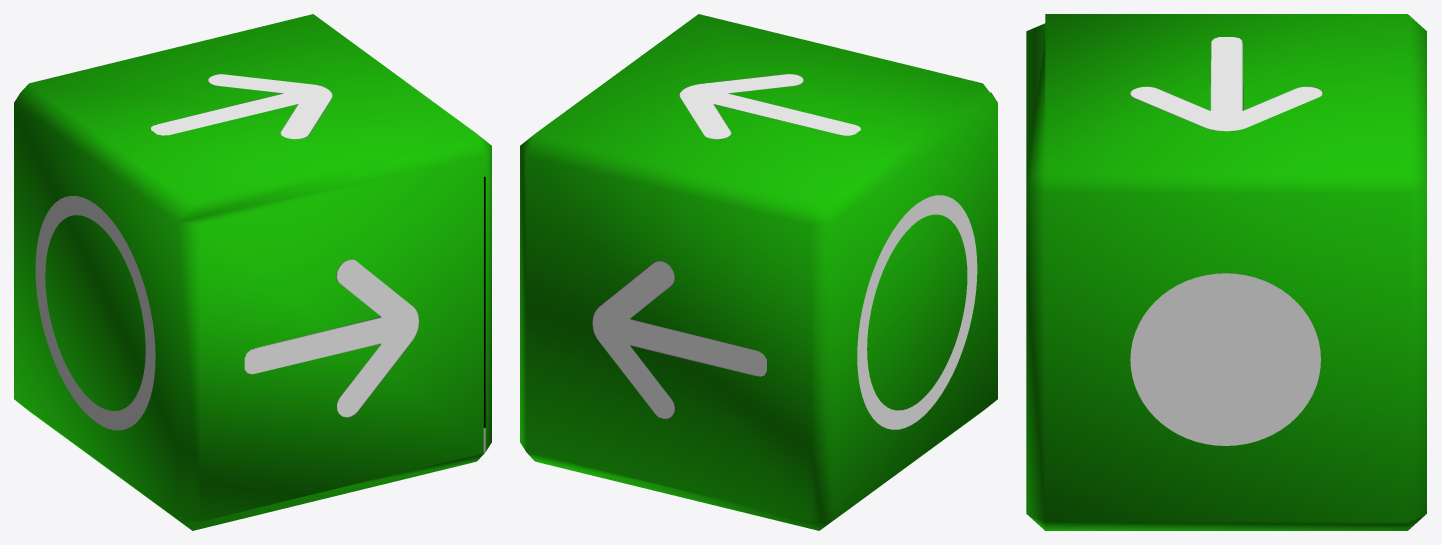
Rendered from BigBoxTapFlowBox_1_1_1_Clean_test2.fbx.
The picture shows the model from 3 angles, left to right: view 1: azimuth 30°, elevation 25°; view 2: azimuth 150°, elevation 25°; view 3: azimuth 270°, elevation 25°; orthographic projection. The views are drawn at different scales.
Visible parts, largest first — view 1: BigBoxTapFlowBox_1_1_1_Clean_test; view 2: BigBoxTapFlowBox_1_1_1_Clean_test; view 3: BigBoxTapFlowBox_1_1_1_Clean_test.
Boxes of the visible parts, left/top/right/bottom form: BigBoxTapFlowBox_1_1_1_Clean_test: left=14, top=14, right=491, bottom=530; BigBoxTapFlowBox_1_1_1_Clean_test: left=520, top=14, right=997, bottom=530; BigBoxTapFlowBox_1_1_1_Clean_test: left=1026, top=14, right=1426, bottom=530.
Bounding box in the file's own units: 1.05 × 1.05 × 1.05.
1 material, 1 textured.
